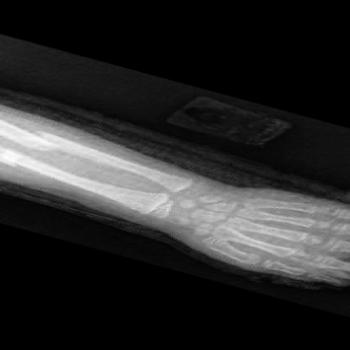Fracture: (23, 130, 66, 155), (6, 154, 24, 171)
